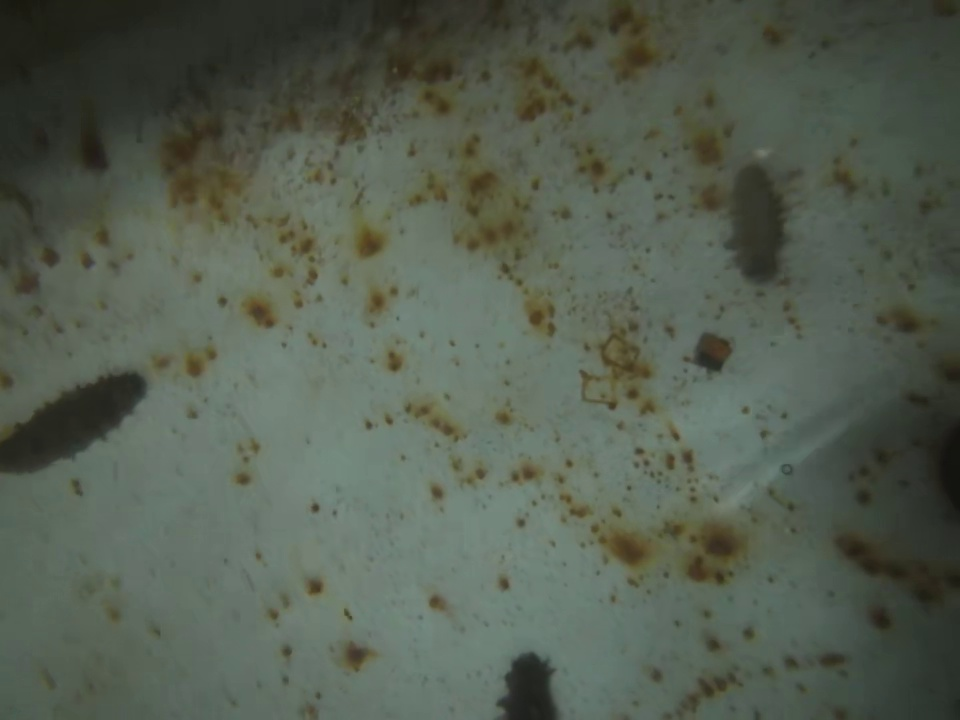seacucumber: (3, 372, 151, 476), (724, 163, 786, 283), (490, 650, 570, 720)
